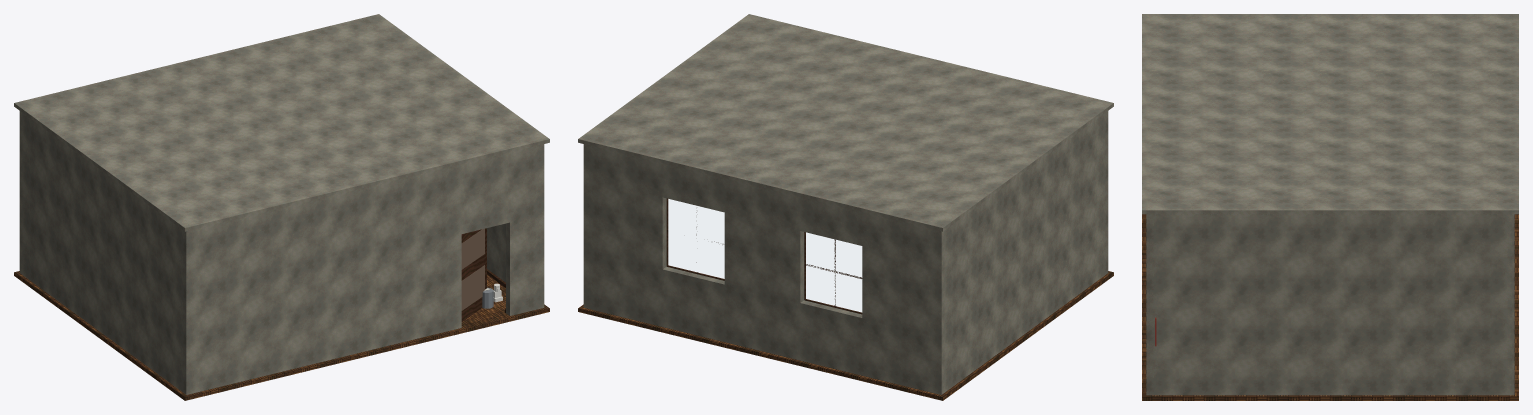
The model's file is ep_museu.glb.
3 views of the same model, side by side, from view 1: azimuth 30°, elevation 25°; view 2: azimuth 150°, elevation 25°; view 3: azimuth 270°, elevation 25° (orthographic). The views are drawn at different scales.
Parts seen in each view (by area): view 1: plaster-col, parquet_square-col, flat, wood_dark; view 2: plaster-col, flat.002, parquet_square-col, wood_dark; view 3: plaster-col, parquet_square-col.
Boxes of the visible parts, x1,y1,x2,y2 form: plaster-col: (14, 14, 549, 394); parquet_square-col: (14, 271, 549, 400); flat: (461, 228, 484, 310); wood_dark: (461, 228, 505, 321); plaster-col: (578, 14, 1113, 394); flat.002: (668, 199, 862, 312); parquet_square-col: (578, 271, 1113, 400); wood_dark: (666, 198, 862, 314); plaster-col: (1142, 14, 1518, 395); parquet_square-col: (1142, 214, 1518, 400).
Bounding box in the file's own units: 10.6 × 4.8 × 8.6.
26 materials, 10 textured.
